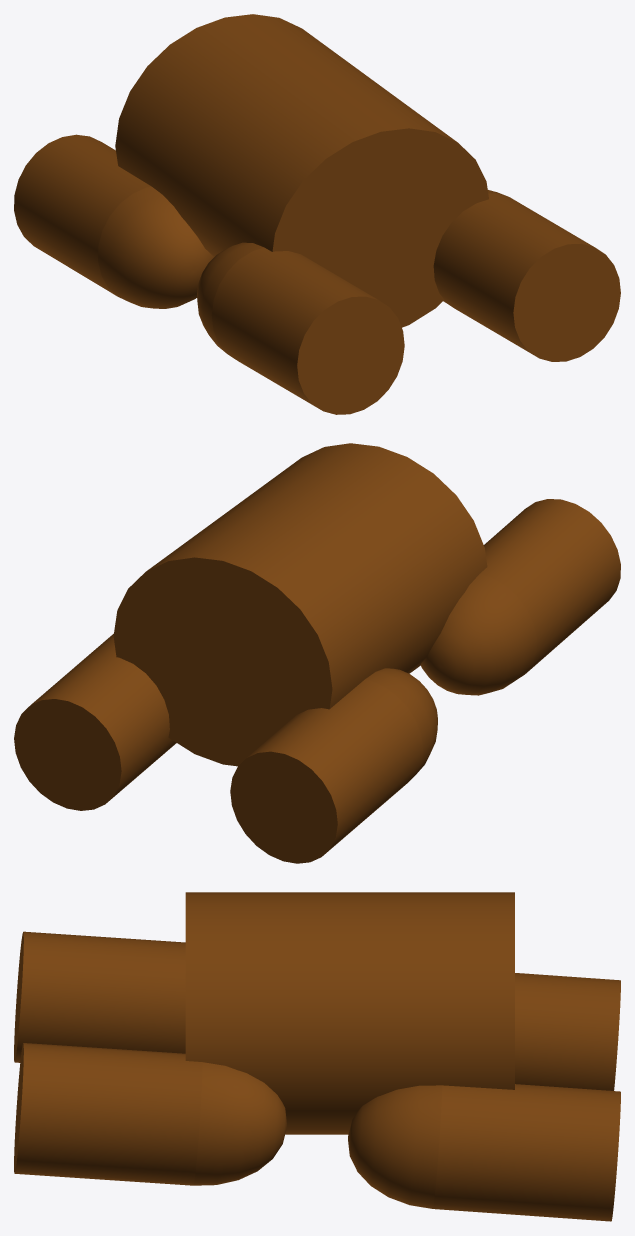
File: pig.fbx
The picture shows the model from 3 angles, top to bottom: view 1: azimuth 30°, elevation 25°; view 2: azimuth 150°, elevation 25°; view 3: azimuth 270°, elevation 25°; orthographic projection. The views are drawn at different scales.
Visible parts, largest first — view 1: cylinder (×4), sphere_half (×2); view 2: cylinder (×4), sphere_half (×2); view 3: cylinder (×5), sphere_half (×2).
Boxes of the visible parts, <box> form: cylinder (×4): <box>14,14,620,414</box>; sphere_half (×2): <box>98,186,263,352</box>; cylinder (×4): <box>14,443,620,863</box>; sphere_half (×2): <box>365,574,536,774</box>; cylinder (×5): <box>14,892,620,1221</box>; sphere_half (×2): <box>193,1062,442,1208</box>.
Bounding box in the file's own units: 12.01 × 8.53 × 18.44.
